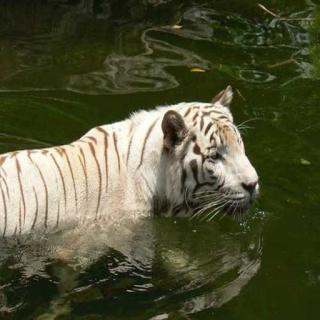Tiger: (0, 73, 280, 275)
